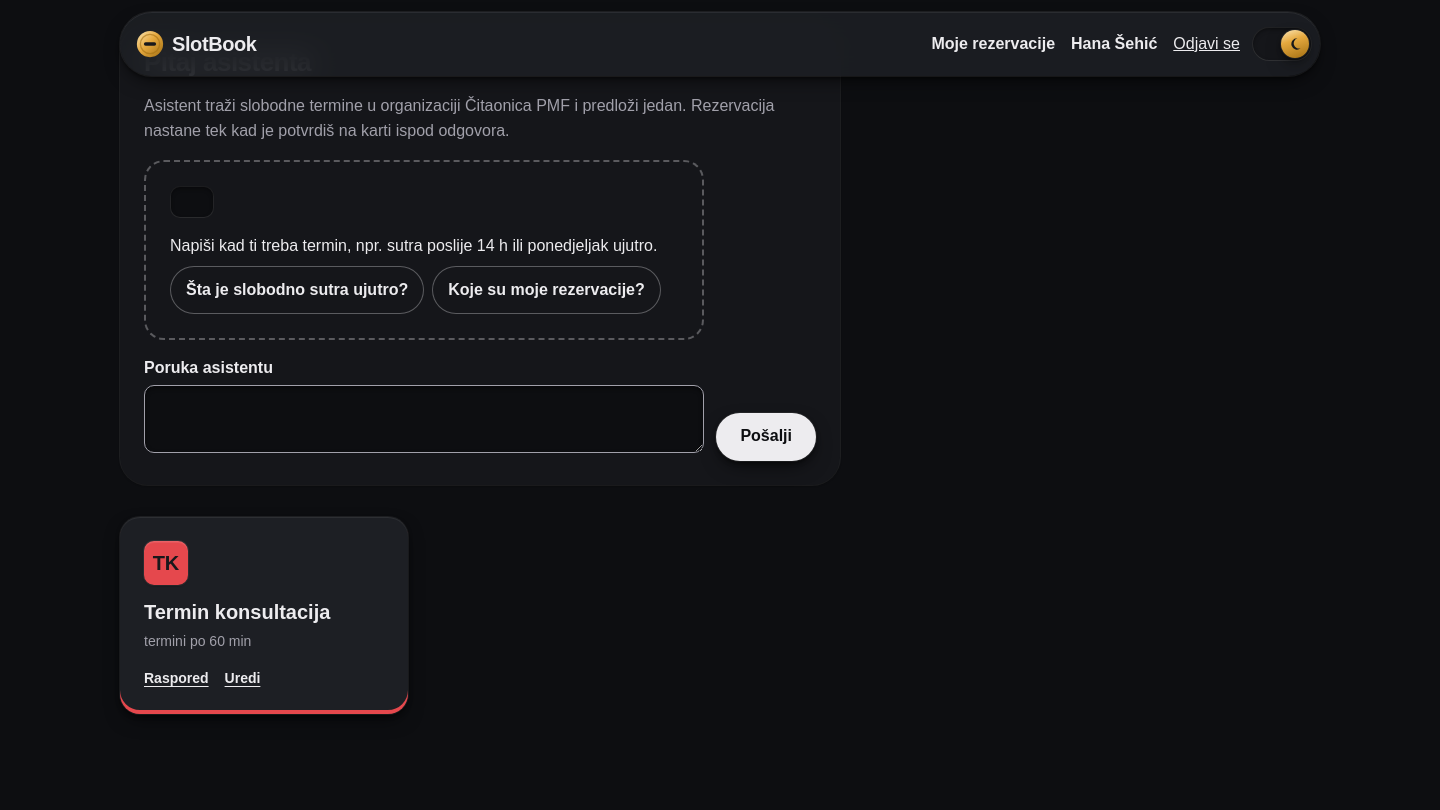
it: pregled › admin iz organizacije otvara raspored dana: ko dolazi, kad i u kom je stanju
(page scrolled)
Click the link with aria-label "Raspored: Termin konsultacija" at x=176, y=678, box [144,670,209,686]
(page scrolled)
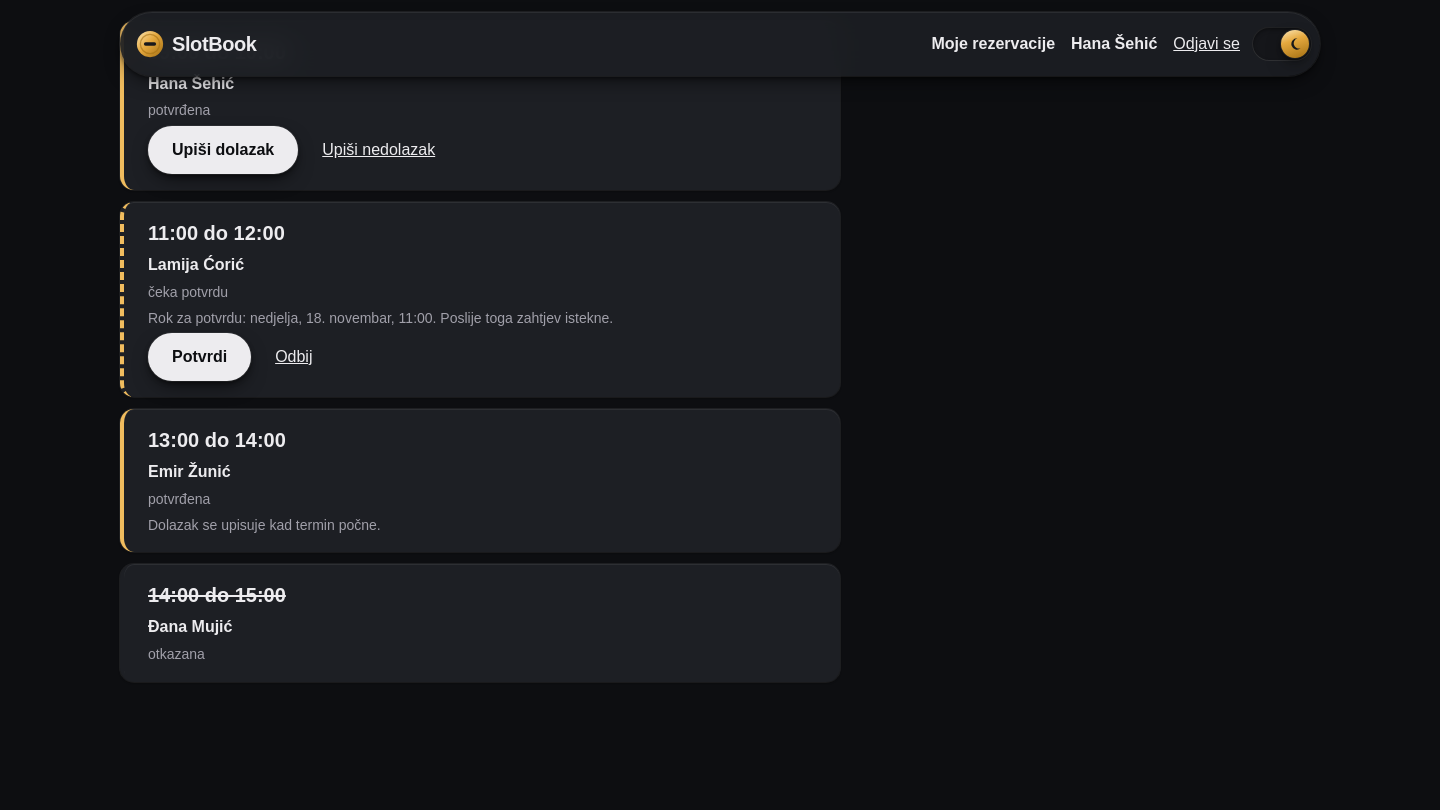
Expected: the text "čeka potvrdu" is shown, [148,284,228,300]
Expected: the text "otkazana" is shown, [148,646,205,662]
